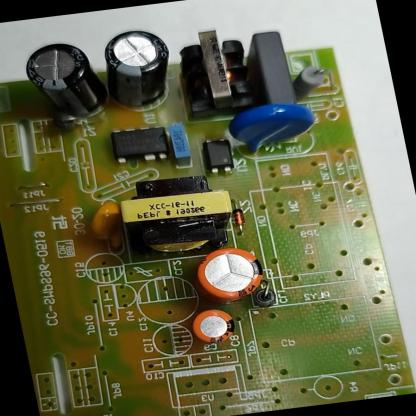Cap1: (190, 242, 272, 310)
Cap2: (187, 306, 244, 346)
Cap3: (94, 25, 183, 115)
Cap4: (19, 37, 110, 130)
MOSFET: (103, 123, 173, 164)
Mov: (226, 96, 324, 159)
Resistor: (288, 61, 334, 97)
Transformer: (112, 170, 245, 259), (170, 24, 261, 126)
